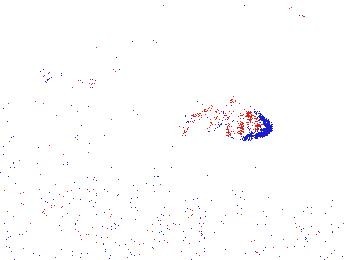red belly glassfish: (217, 102, 274, 142), (282, 2, 311, 21)
redtail glassfish: (182, 100, 243, 137), (37, 64, 102, 90)
